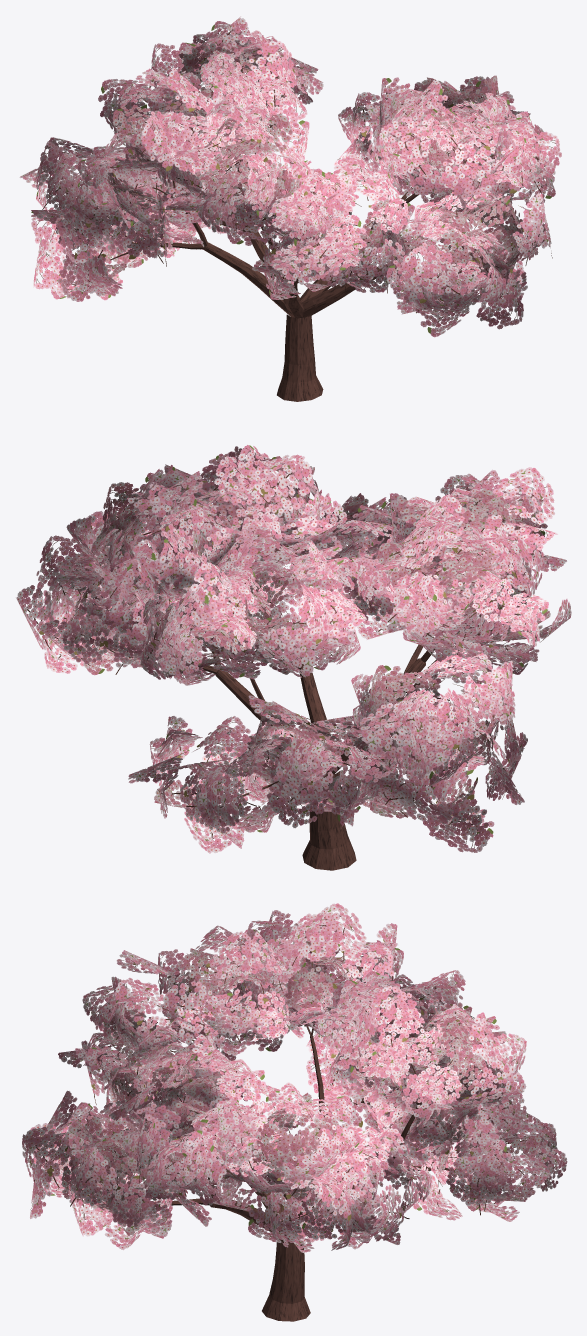
The model's file is tree-cherry-large.gltf.
3 renders of one model, top to bottom at view 1: azimuth 30°, elevation 25°; view 2: azimuth 150°, elevation 25°; view 3: azimuth 270°, elevation 25°, orthographic. The views are drawn at different scales.
Visible parts, largest first — view 1: tree_cherry_large; view 2: tree_cherry_large; view 3: tree_cherry_large.
Part boxes in pixels (x1,y1,x2,y2): tree_cherry_large: (19, 16, 561, 401); tree_cherry_large: (16, 445, 571, 870); tree_cherry_large: (22, 903, 567, 1321).
Size of the model in its own units: 8.01 by 5.68 by 8.23.
3 materials, 3 textured.
